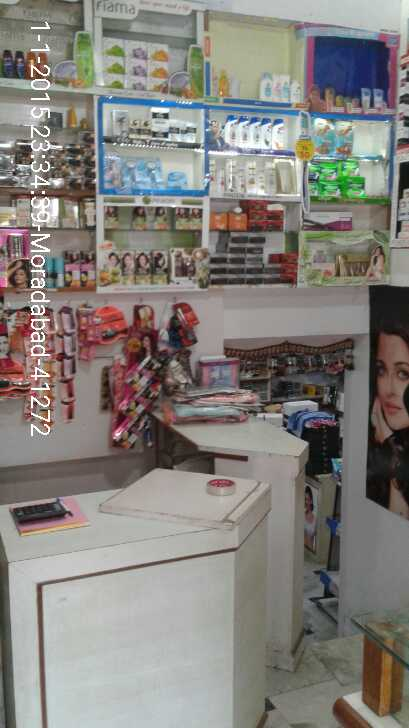venus: (138, 157, 161, 186), (104, 155, 121, 185), (121, 157, 138, 185), (166, 172, 187, 185)
